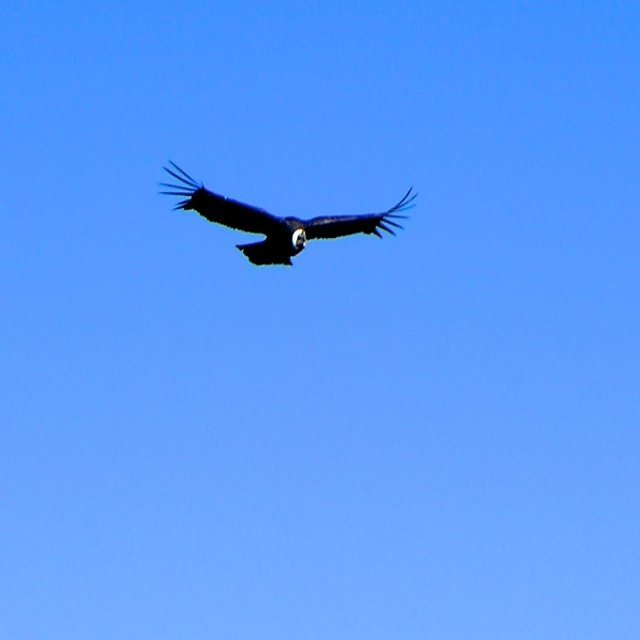Eagle: (159, 159, 418, 266)
